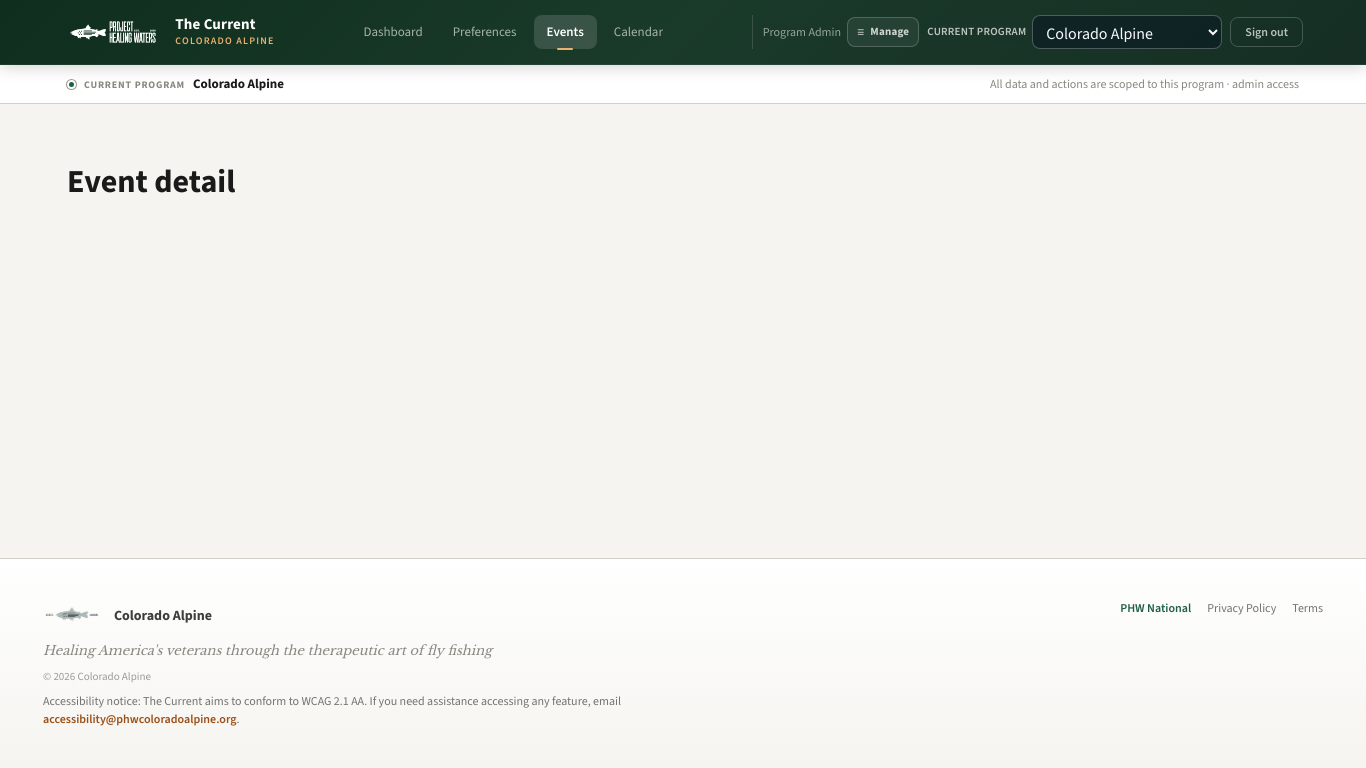
Test: Layout tenant context › switches the tenant and leaves a tenant-specific resource route
Select "Colorado Springs" in the dropdown labelled "Current program" at {"x": 1127, "y": 32}, box [1032,15,1222,49]
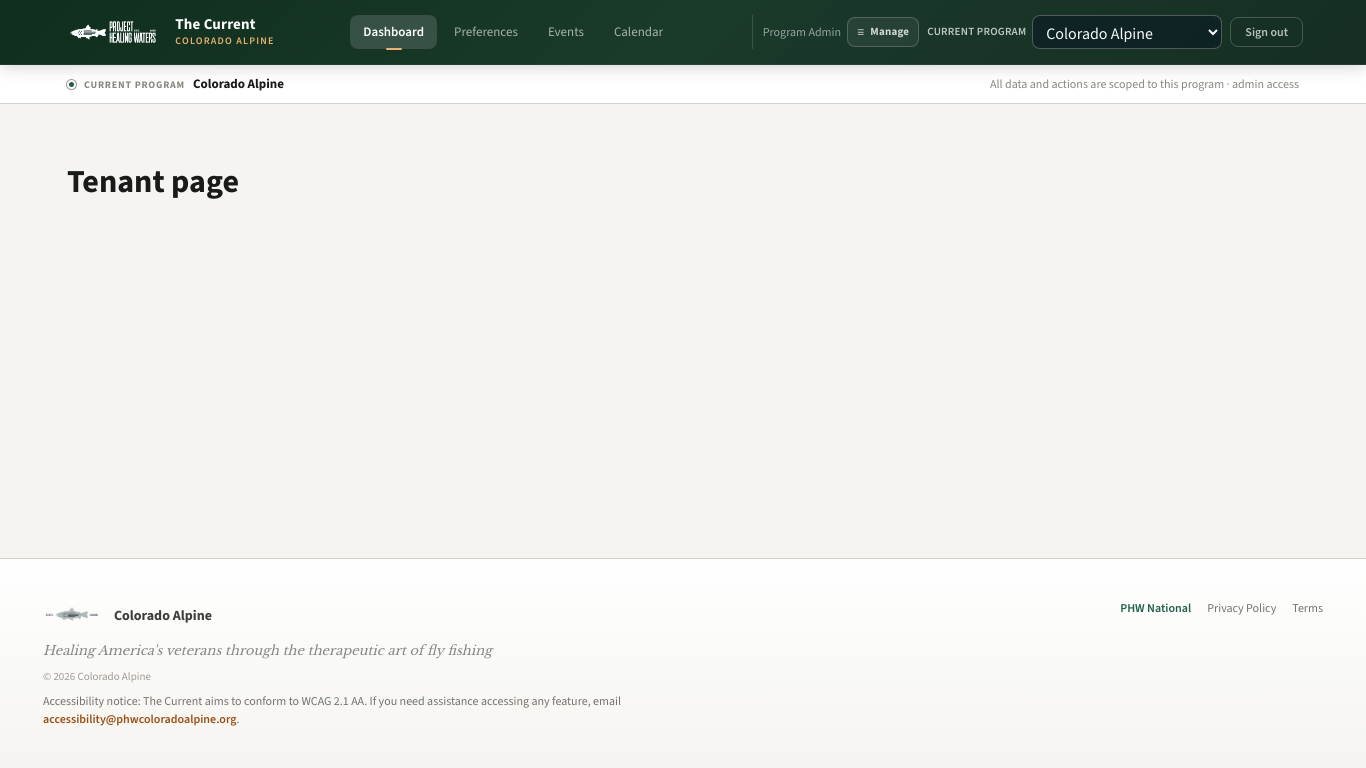
Now the heading "Tenant page" is shown, box [67,160,239,202]
